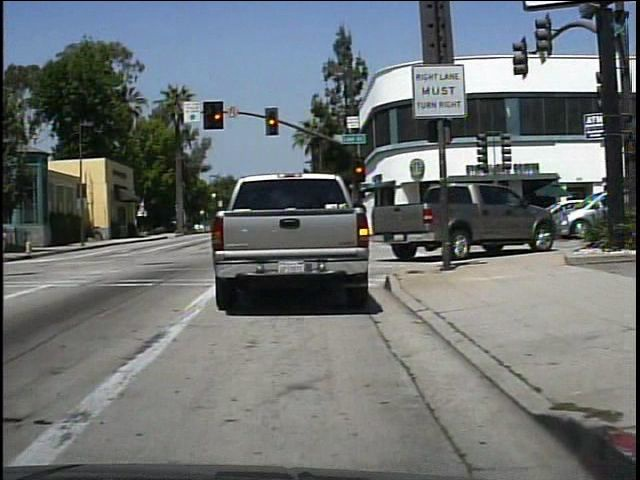person: (471, 199, 488, 239), (2, 225, 13, 261)
